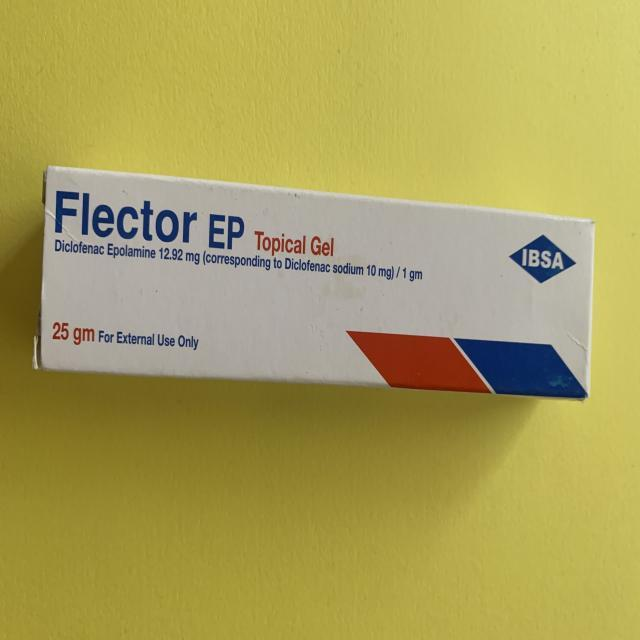Medicine Name: (54, 179, 251, 252)
